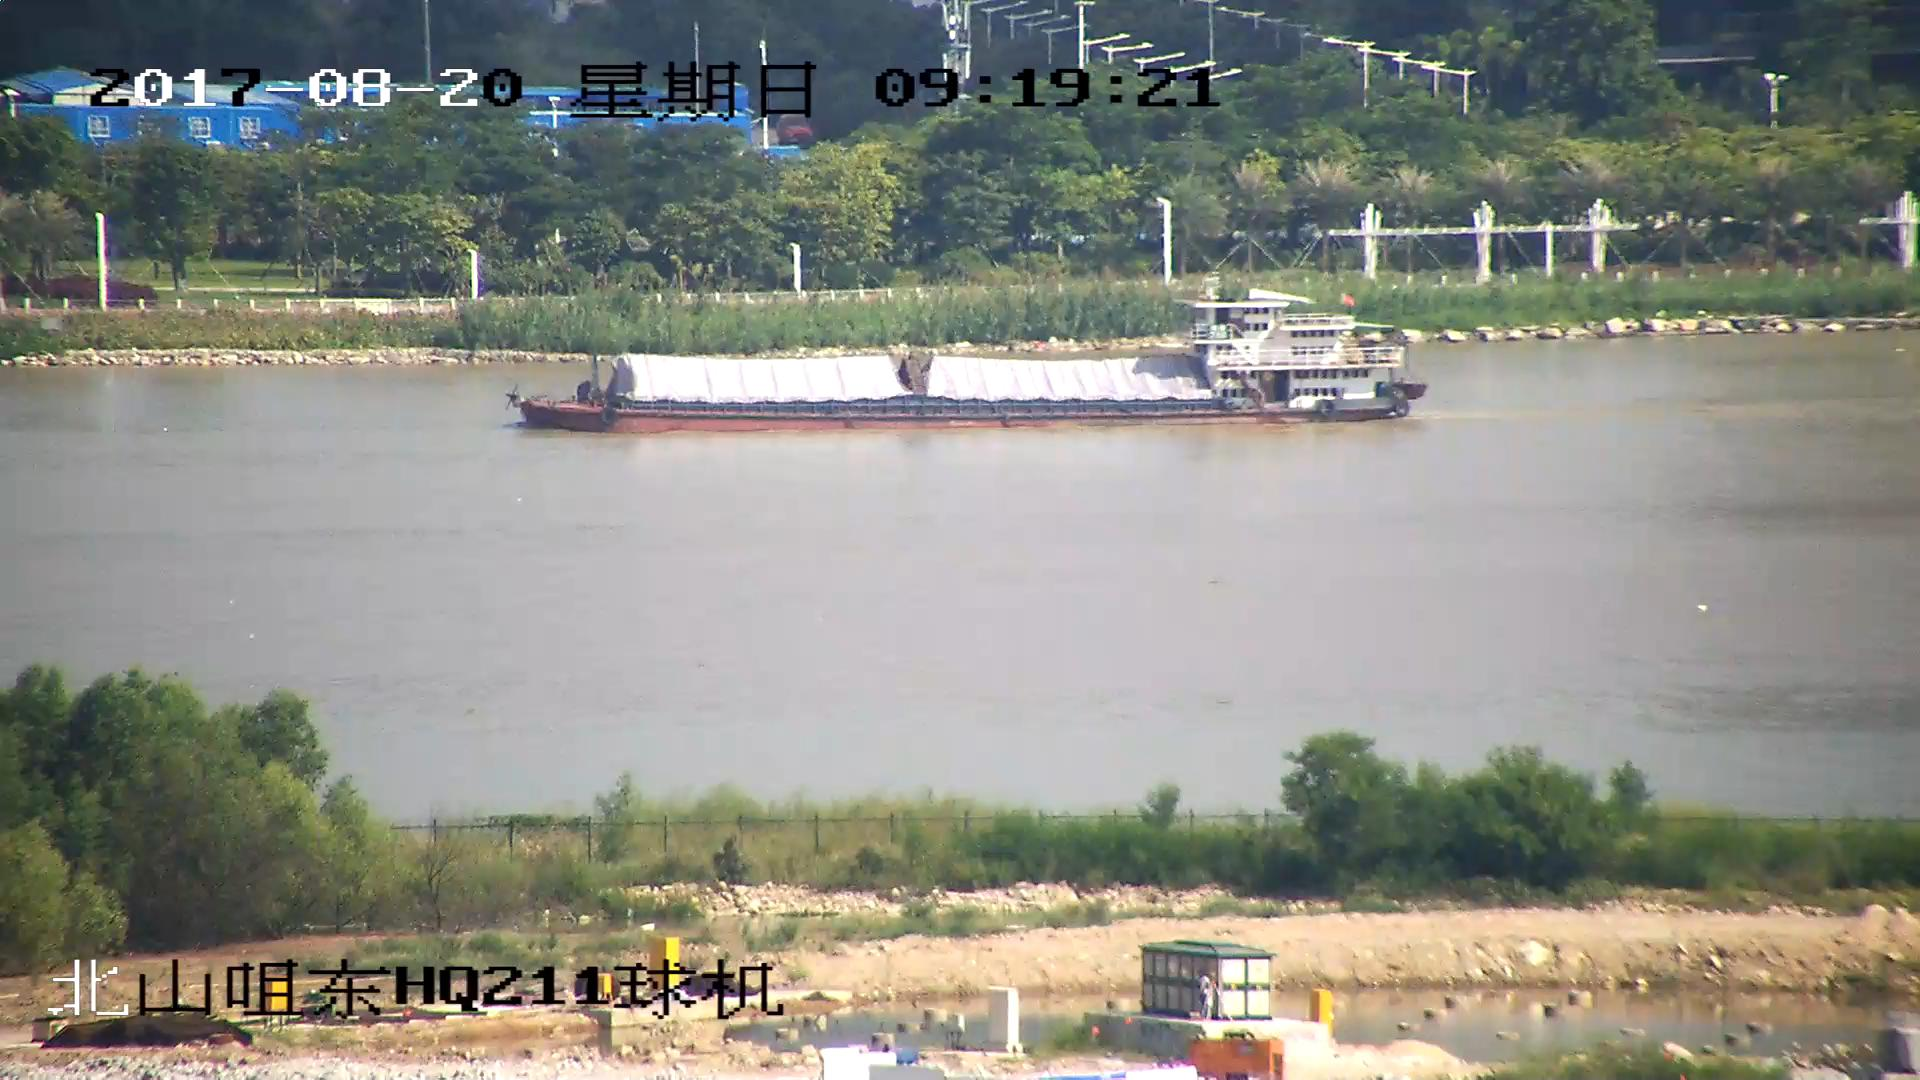general cargo ship: (515, 302, 1421, 434)
